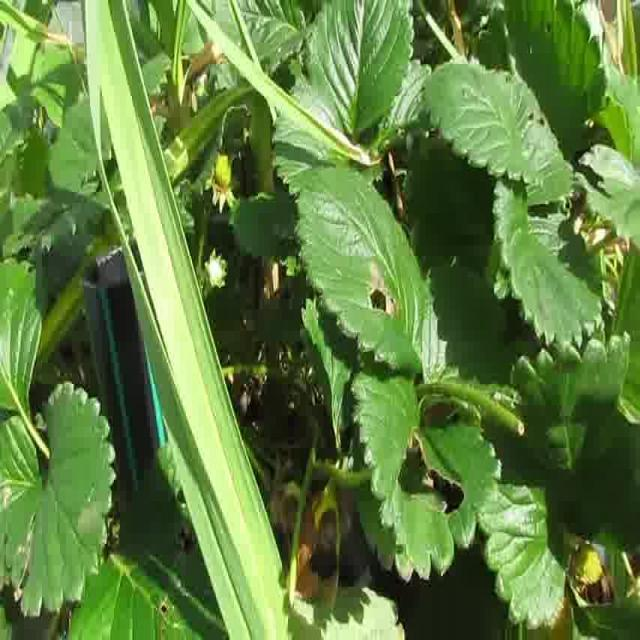Fruta sana: (516, 573, 574, 640), (566, 535, 604, 586)
